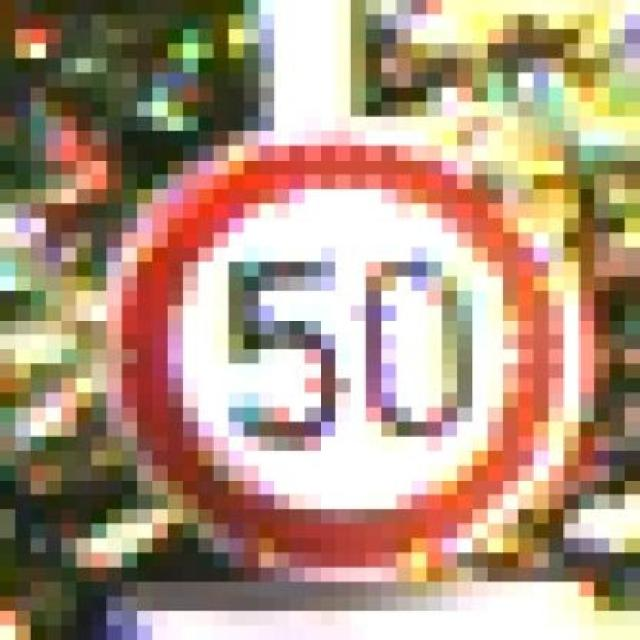forb_speed_over_50: (120, 136, 565, 576)
